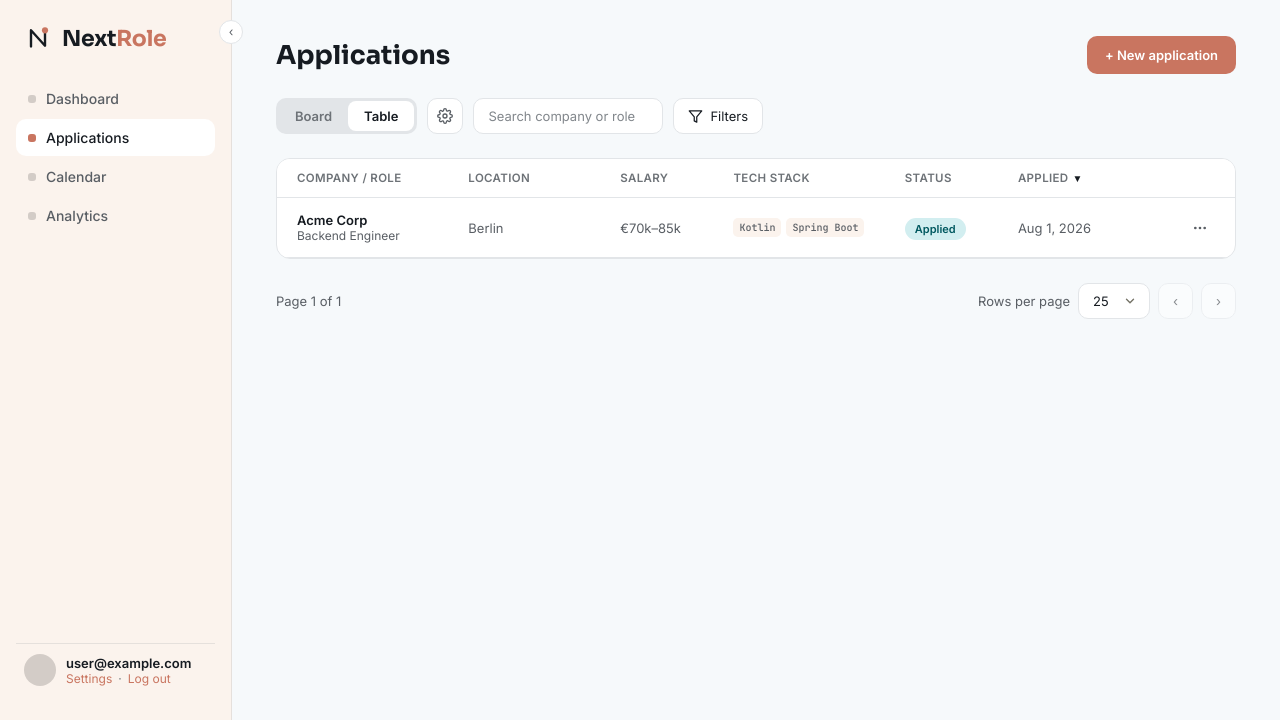
ApplicationsPage › opens the create modal when clicking + New application
expect the text "Acme Corp" is shown: met, box 297,212 -> 367,228
Click the button "+ New application".
click(1161, 55)  # box 1087,36 -> 1236,74
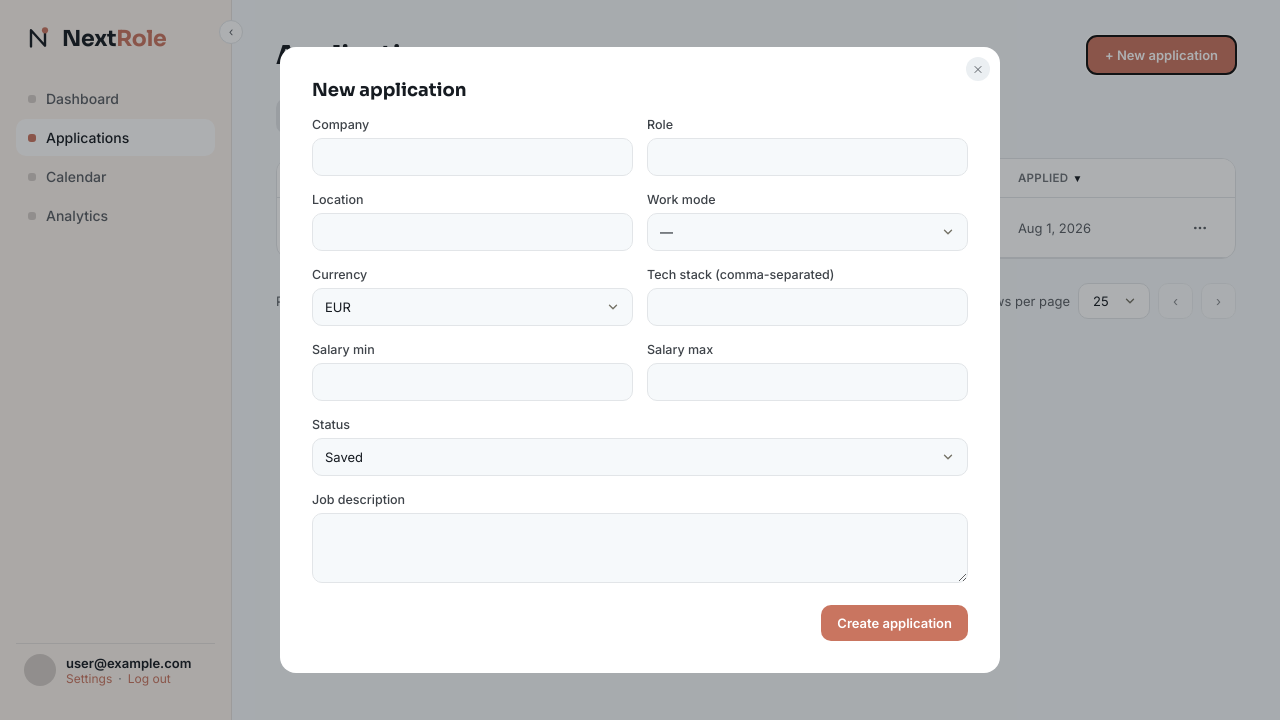
expect the heading "New application" is shown: met, box 312,79 -> 466,101
